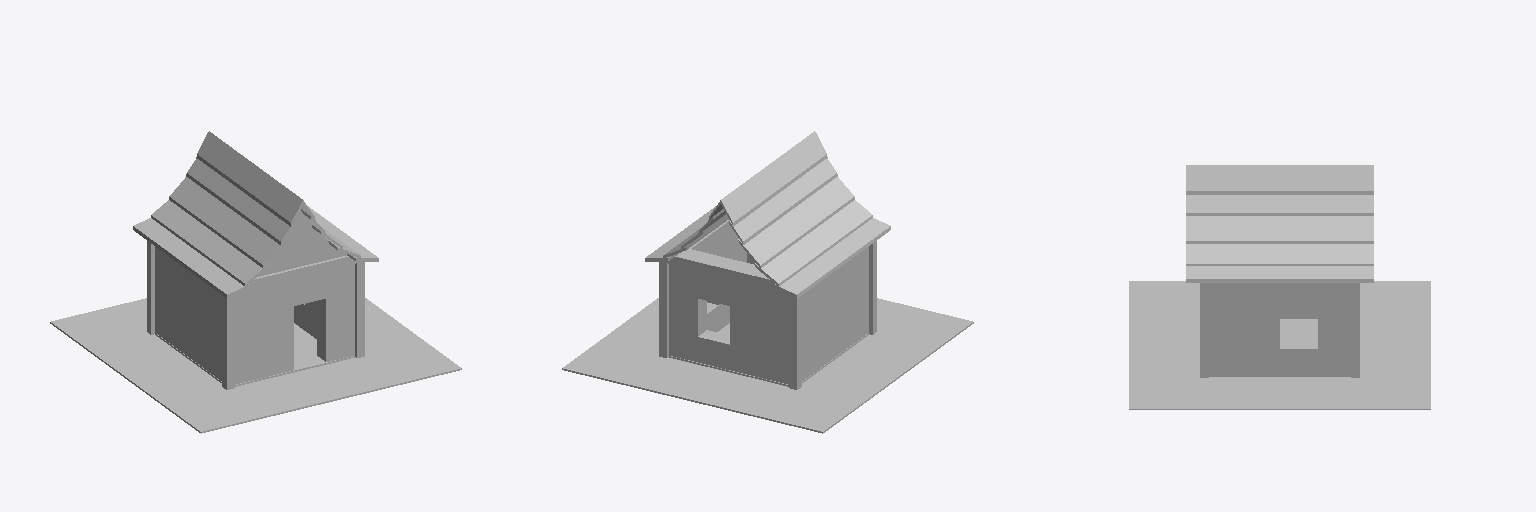
Rendered from house.obj.
3 views of the same model, side by side, from view 1: azimuth 30°, elevation 25°; view 2: azimuth 150°, elevation 25°; view 3: azimuth 270°, elevation 25° (orthographic).
Parts seen in each view (by area): view 1: Cube_Cube.002, Cube.003_Cube.012, Cube.004_Cube.005, Cube.002_Cube.001, Cube.006_Cube.008, Cube.001_Cube.003, Cube.005_Cube.006; view 2: Cube_Cube.002, Cube.004_Cube.005, Cube.003_Cube.012, Cube.002_Cube.001, Cube.005_Cube.006; view 3: Cube_Cube.002, Cube.003_Cube.012, Cube.004_Cube.005, Cube.002_Cube.001, Cube.001_Cube.003.
Boxes of the visible parts, <box> form: Cube_Cube.002: <box>50,298,461,433</box>; Cube.003_Cube.012: <box>133,131,378,298</box>; Cube.004_Cube.005: <box>155,247,354,384</box>; Cube.002_Cube.001: <box>147,241,364,389</box>; Cube.006_Cube.008: <box>258,209,346,276</box>; Cube.001_Cube.003: <box>155,323,354,386</box>; Cube.005_Cube.006: <box>244,255,356,290</box>; Cube_Cube.002: <box>562,298,973,433</box>; Cube.004_Cube.005: <box>669,220,868,384</box>; Cube.003_Cube.012: <box>645,131,890,298</box>; Cube.002_Cube.001: <box>659,241,876,389</box>; Cube.005_Cube.006: <box>667,253,779,290</box>; Cube_Cube.002: <box>1129,281,1430,409</box>; Cube.003_Cube.012: <box>1186,165,1373,282</box>; Cube.004_Cube.005: <box>1209,283,1350,374</box>; Cube.002_Cube.001: <box>1200,283,1359,377</box>; Cube.001_Cube.003: <box>1209,319,1350,376</box>.
Bounding box in the file's own units: 16 × 10.62 × 16.